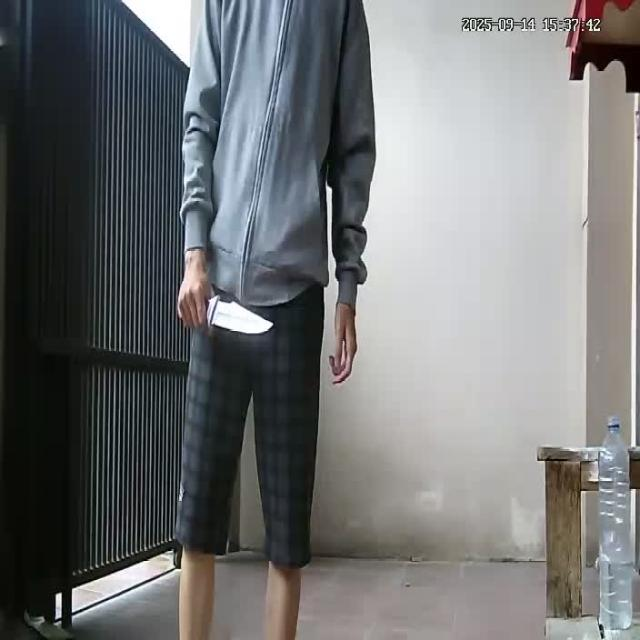senjata_tajam: (204, 294, 275, 334)
